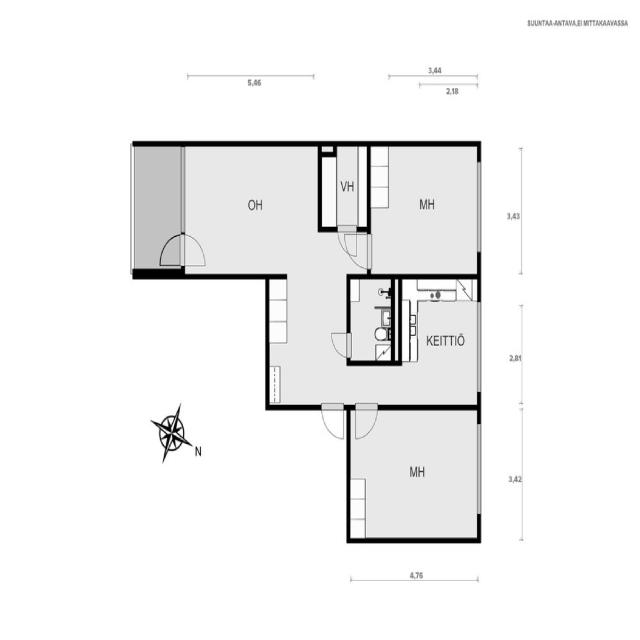door: (154, 231, 210, 266), (344, 230, 373, 270), (352, 400, 379, 442), (319, 400, 346, 442), (335, 225, 364, 263), (327, 327, 352, 361)
window: (473, 302, 485, 394), (474, 160, 484, 252), (177, 146, 187, 234), (474, 422, 483, 517)
zone: (349, 405, 481, 542), (183, 144, 320, 274), (368, 144, 479, 277), (267, 274, 348, 409), (398, 275, 479, 406), (320, 143, 368, 230), (349, 277, 394, 364)
